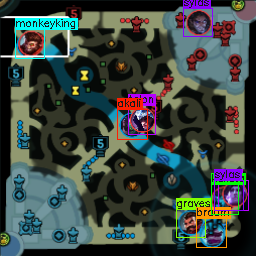akali: (119, 114, 143, 138)
braum: (199, 222, 225, 247)
graves: (178, 209, 204, 234)
kalista: (210, 187, 233, 211)
monkeyking: (17, 30, 44, 56)
sylas: (186, 10, 211, 34)
talon: (130, 107, 154, 132)
taric: (222, 180, 247, 205)
